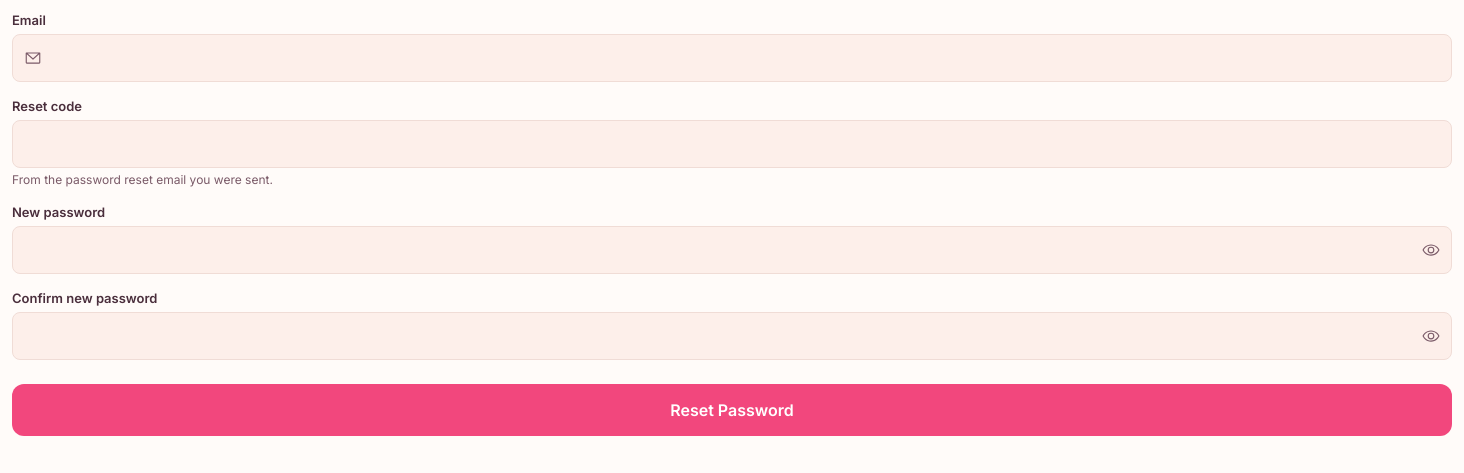
Scenario: ResetPasswordForm › rejects a short password and a mismatched confirmation
This screenshot has width=1464, height=473.
Step 1. Type "citizen@example.com" into the field labelled "Email" → x=732, y=58, box top-left (12, 34), bottom-right (1452, 82)
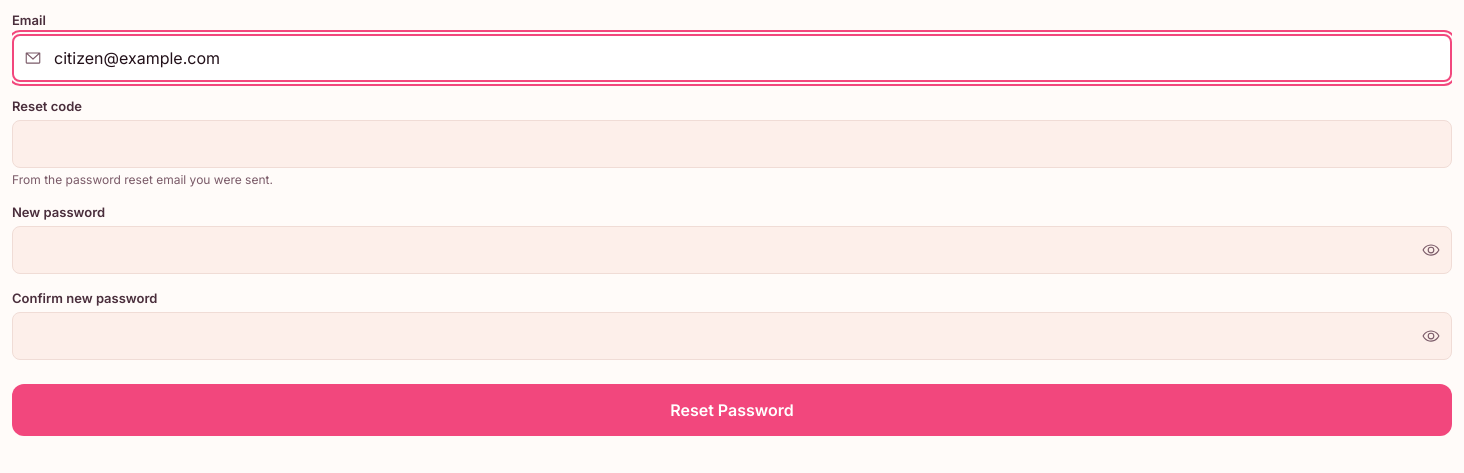
Step 2. Type "123456" into the field labelled "Reset code" → x=732, y=144, box top-left (12, 120), bottom-right (1452, 168)
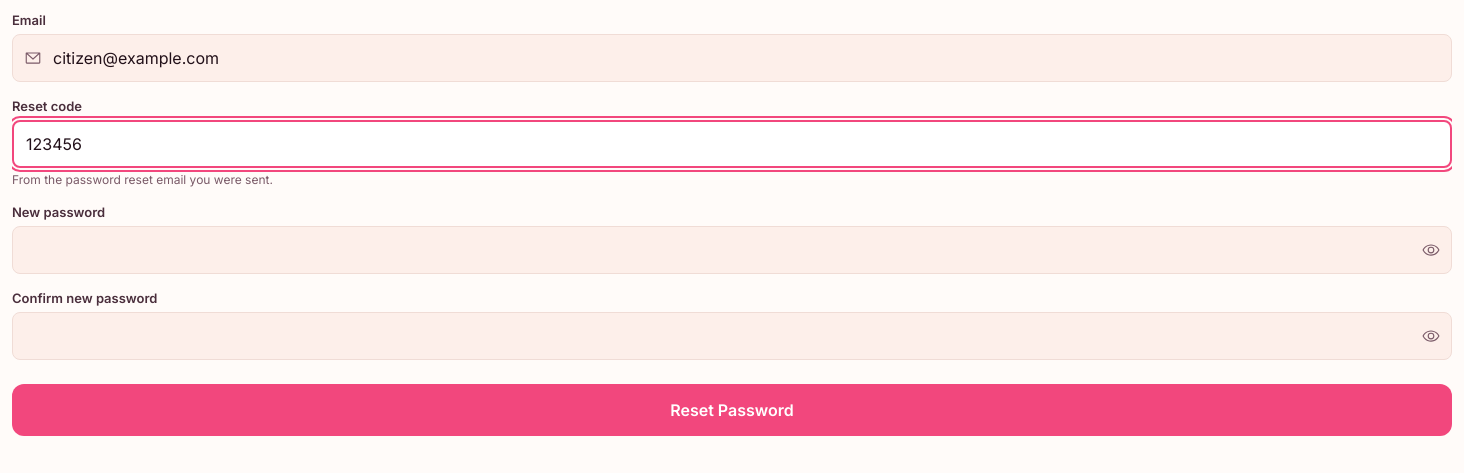
Step 3. Type "short" into the password field labelled "New password" → x=732, y=250, box top-left (12, 226), bottom-right (1452, 274)
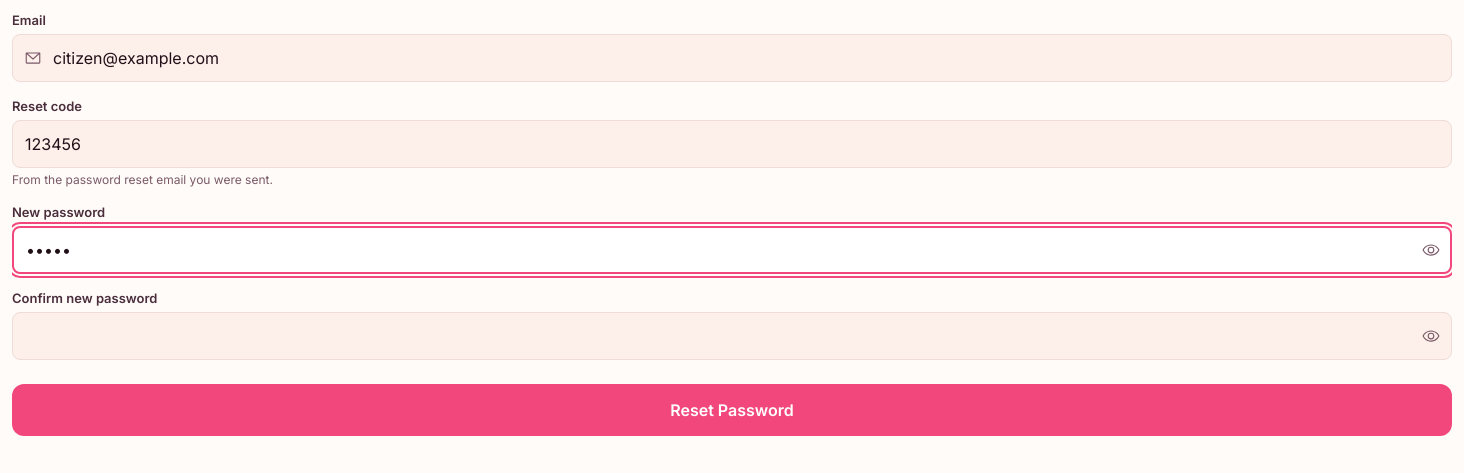
Step 4. Type "short" into the password field labelled "Confirm new password" → x=732, y=336, box top-left (12, 312), bottom-right (1452, 360)
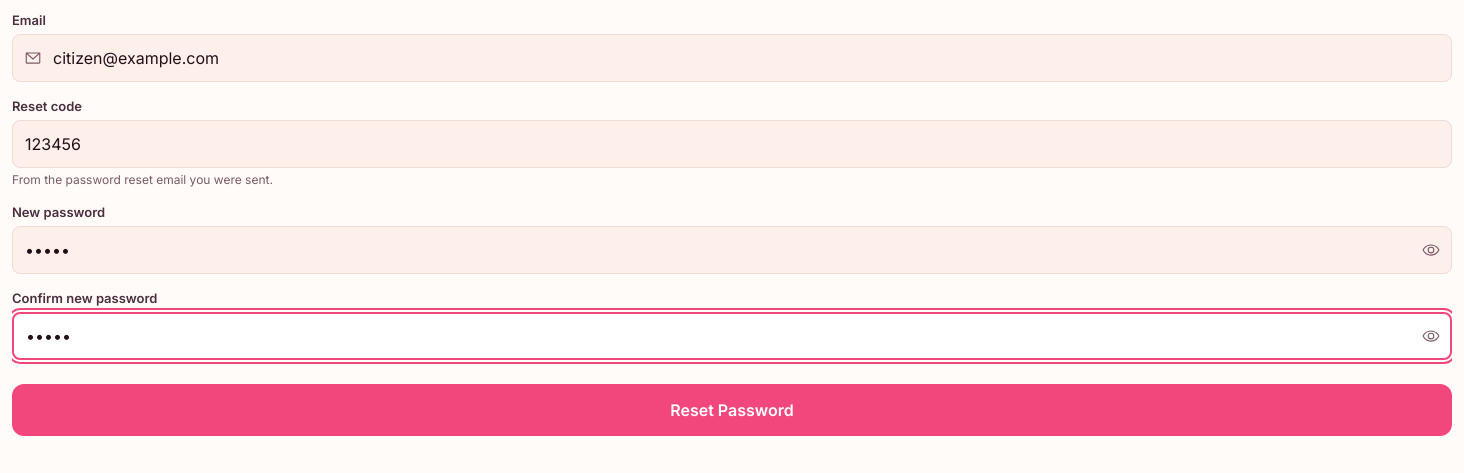
Step 5. Click the button named "Reset Password" → x=732, y=410, box top-left (12, 384), bottom-right (1452, 436)
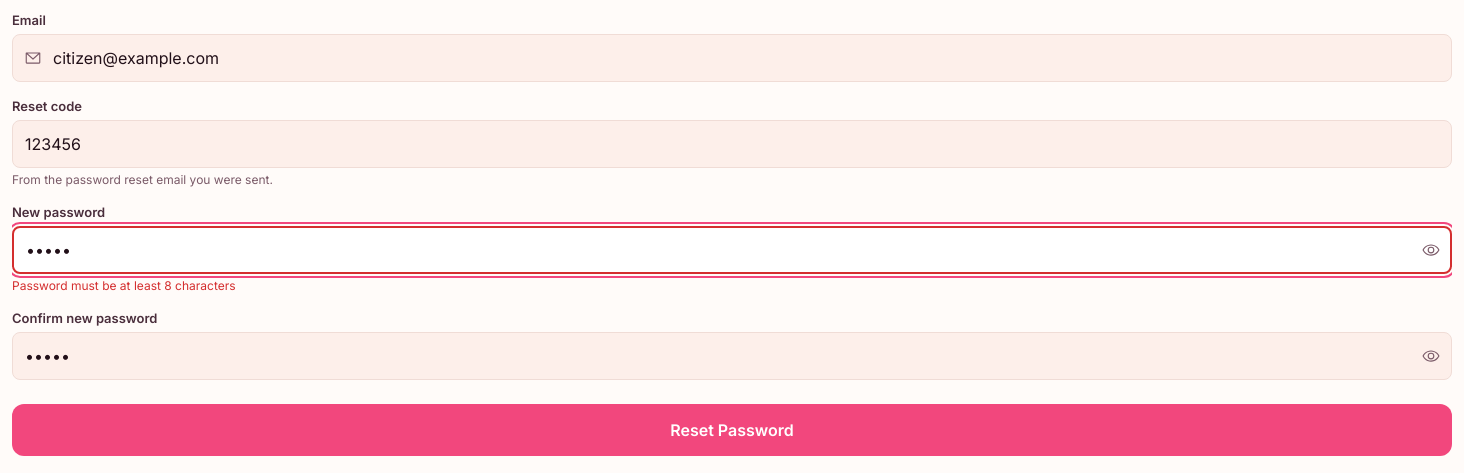
Check: the text "Password must be at least 8 characters" is shown, box top-left (12, 278), bottom-right (236, 293)
